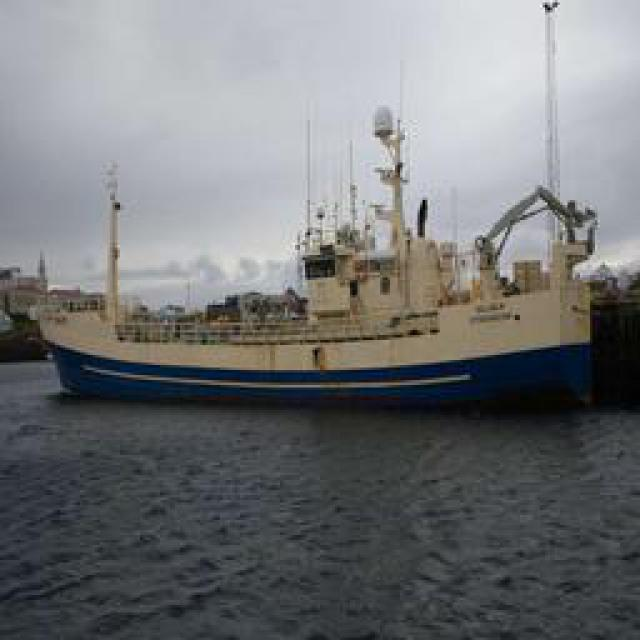Ship: (41, 71, 599, 406)
